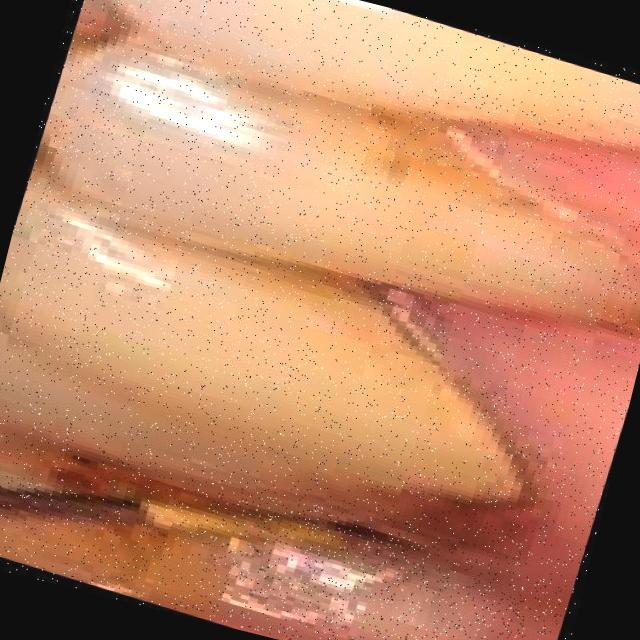abscess: (178, 477, 571, 640)
